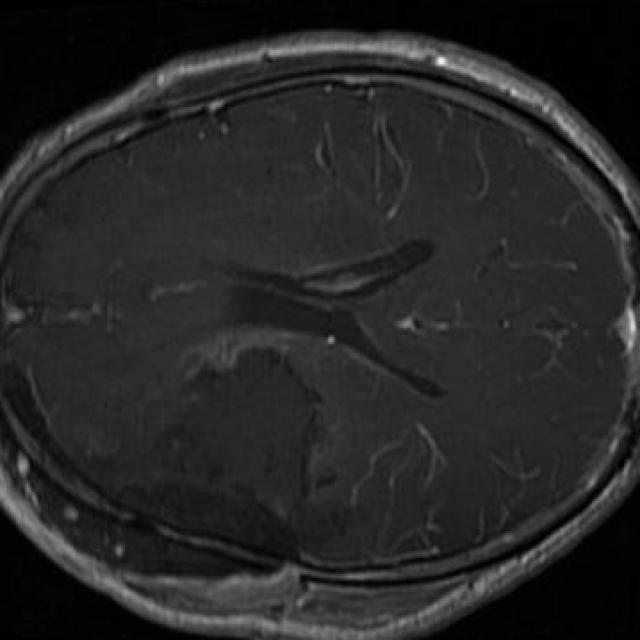glioma: (91, 348, 317, 560)
